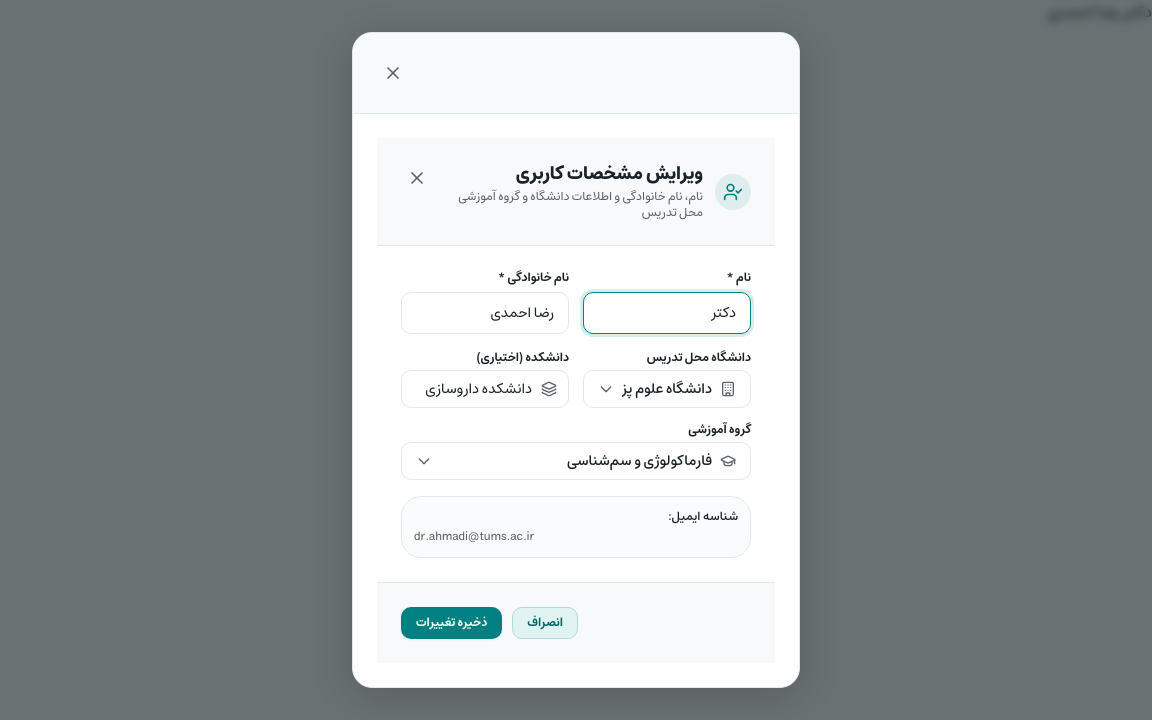
Test: EditProfileModal & Profile Update › renders teacher affiliation fields for teacher role and submits university/department
Check: the text "دانشگاه علوم پزشکی تهران" is shown, box [622, 379, 712, 399]
Check: the field showing "دانشکده داروسازی" is shown, box [401, 370, 569, 408]
Click the dropdown with test id "edit-university-select" at (667,389), box [583, 370, 751, 408]
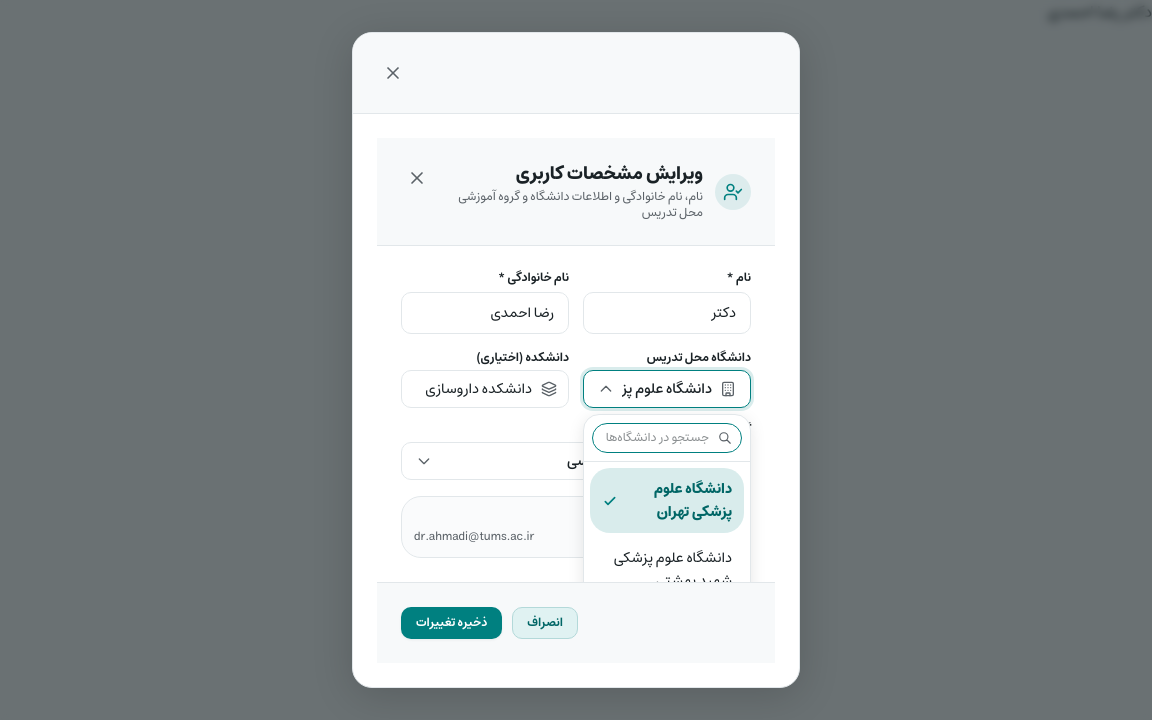
Type "شهید بهشتی" into the field with placeholder "جستجو در دانشگاه‌ها..." at (667,438), box [592, 423, 742, 453]
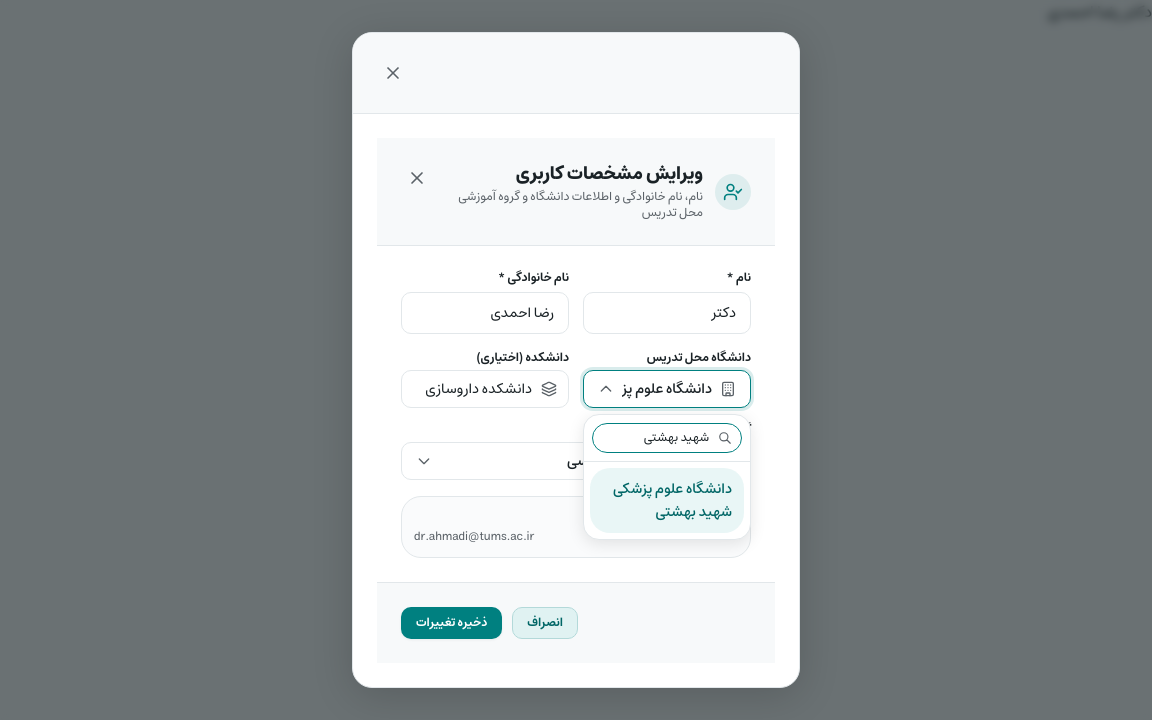
Click the option "دانشگاه علوم پزشکی شهید بهشتی" at (667,501), box [590, 468, 744, 533]
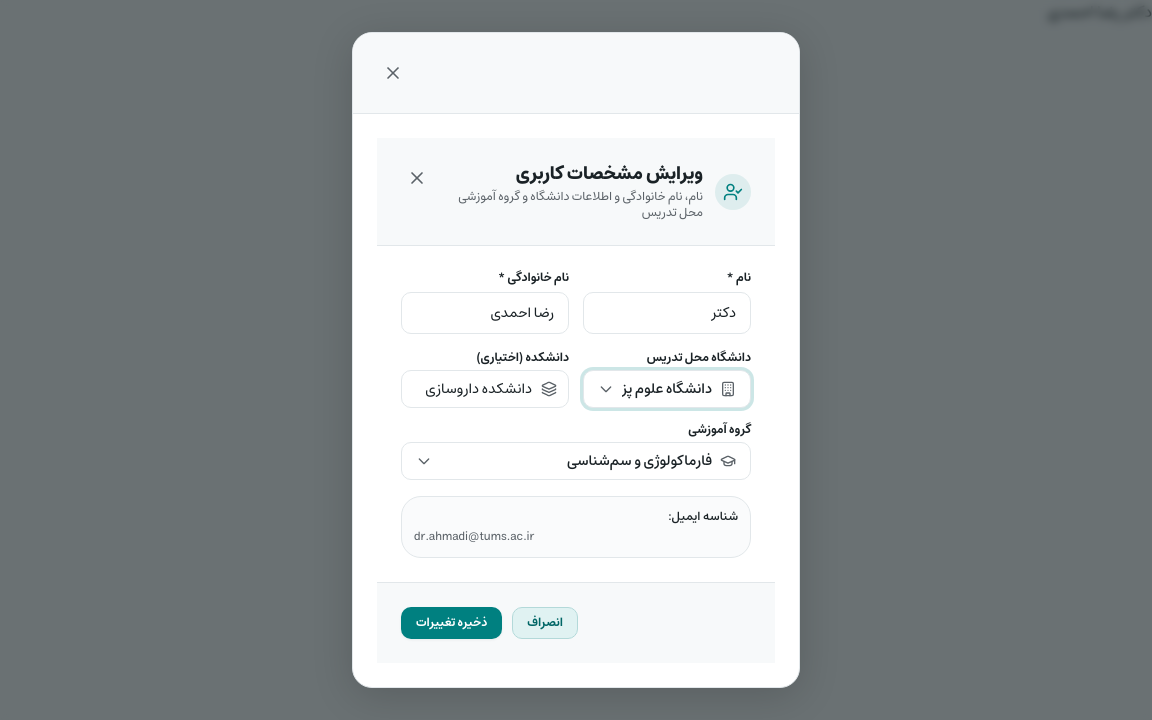
Click the button "ذخیره تغییرات" at (452,623), box [401, 607, 502, 639]
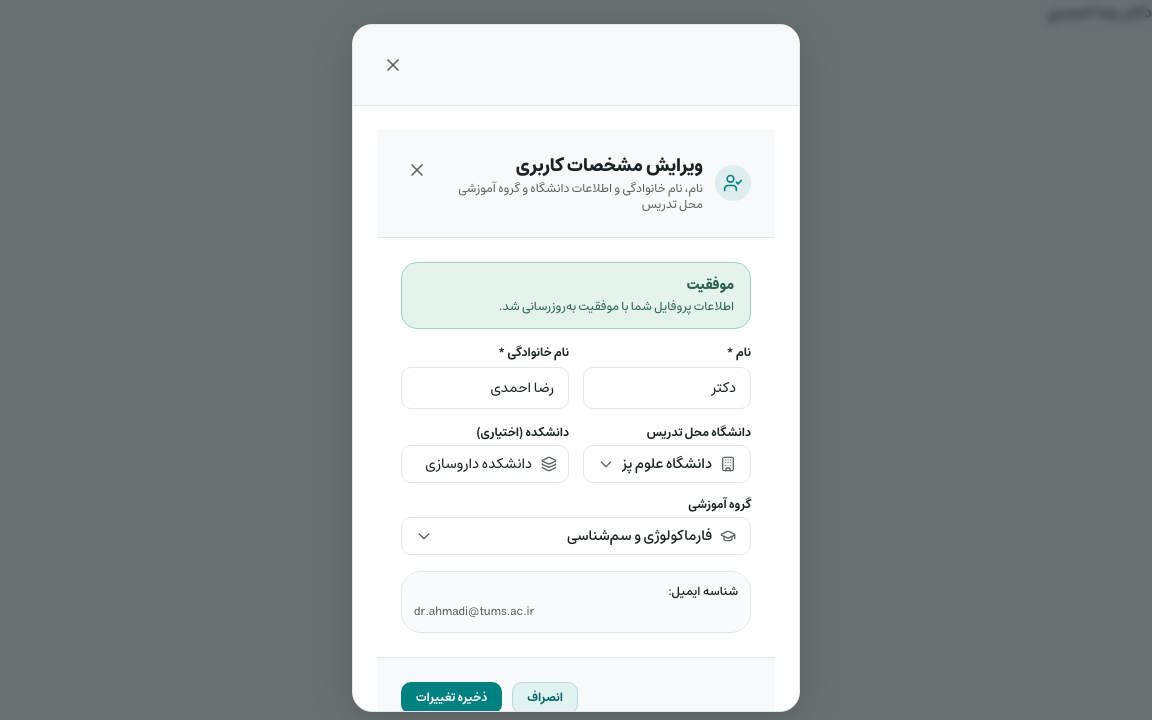
Check: the text "اطلاعات پروفایل شما با موفقیت به‌روزرسانی شد." is shown, box [499, 297, 734, 316]
